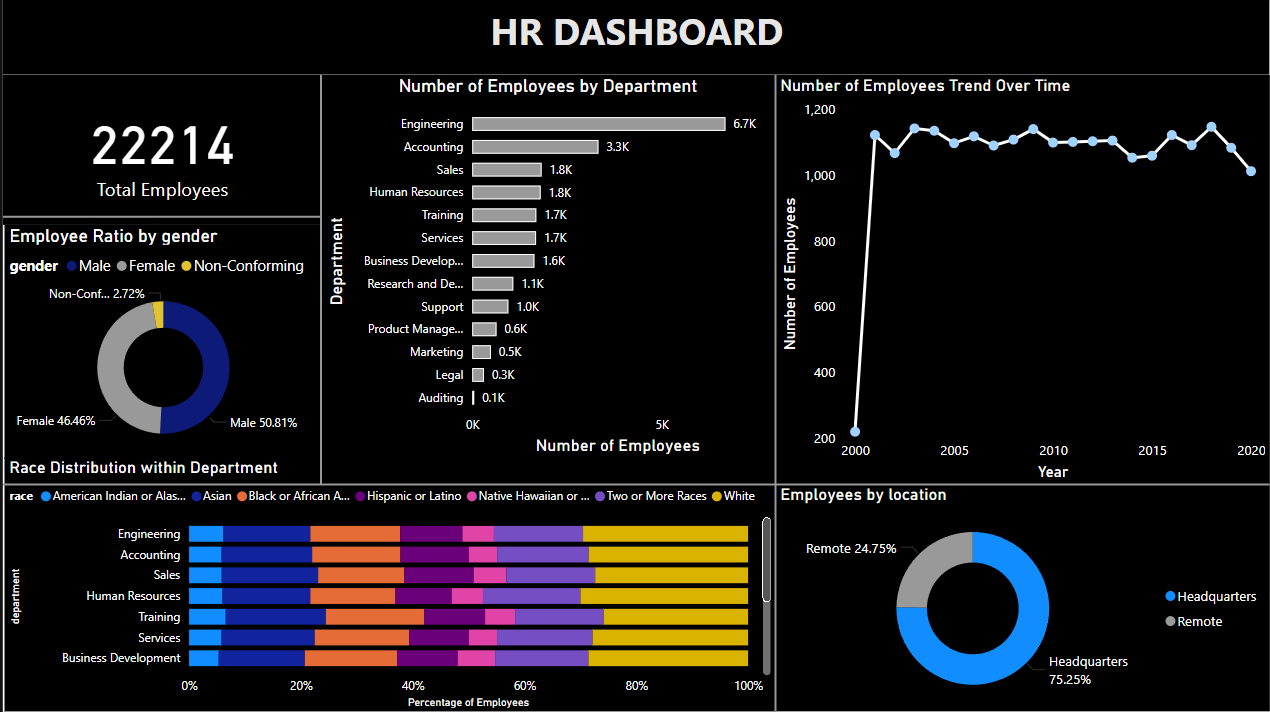

The page's visual inventory and layout, read from the dashboard file:
{"tool":"powerbi","page":{"name":"Page 1","canvas":[1280,720],"ordinal":0},"visuals":[{"type":"textbox","box":[0,0,1279.4,75.6],"z":0},{"type":"card","fields":{"Values":["CountNonNull(Query1.first_name)"]},"box":[0,76.2,321.5,151.1],"z":1000},{"type":"donutChart","title":"Employee Ratio by gender","fields":{"Category":["Query1.gender"],"Y":["CountNonNull(Query1.first_name)"]},"box":[1.3,227.3,320.2,236.3],"z":2000},{"type":"clusteredBarChart","fields":{"Category":["Query1.department"],"Y":["CountNonNull(Query1.first_name)"]},"box":[321.5,76.2,458.4,387.4],"z":3000},{"type":"hundredPercentStackedBarChart","title":"Race Distribution within Department","fields":{"Y":["CountNonNull(Query1.first_name)"],"Series":["Query1.race"],"Category":["Query1.department"]},"box":[1.5,461.8,778.3,257.4],"z":4000},{"type":"lineChart","title":"Number of Employees Trend Over Time","fields":{"Y":["CountNonNull(Query1.first_name)"],"Category":["Query1.hire_date.Variation.Date Hierarchy.Year"]},"box":[779.8,75.7,499.7,413.4],"z":5000},{"type":"donutChart","fields":{"Category":["Query1.location"],"Y":["CountNonNull(Query1.first_name)"]},"box":[779.8,489.1,499.7,230.2],"z":6000},{"type":"shape","box":[315,75.7,12.1,413.4],"z":6001},{"type":"shape","box":[773.8,75.7,12.1,413.4],"z":6002},{"type":"shape","box":[0,210.5,321,16.7],"z":6003},{"type":"shape","box":[773.8,489.1,12.1,230.2],"z":6004},{"type":"shape","box":[0,483,1279.5,12.1],"z":6005}]}

Visuals, with their boxes in screenshot pixels (x1, y1, x2, y2), scaled from the page's 1280x720 canvas onto the 1270x712 screenshot:
textbox: <box>0,0,1269,75</box>
card - CountNonNull(Query1.first_name): <box>0,75,319,225</box>
"Employee Ratio by gender" donutChart: <box>1,225,319,458</box>
clusteredBarChart - Query1.department x CountNonNull(Query1.first_name): <box>319,75,774,458</box>
"Race Distribution within Department" hundredPercentStackedBarChart: <box>1,457,774,711</box>
"Number of Employees Trend Over Time" lineChart: <box>774,75,1269,484</box>
donutChart - Query1.location x CountNonNull(Query1.first_name): <box>774,484,1269,711</box>
shape: <box>313,75,325,484</box>
shape: <box>768,75,780,484</box>
shape: <box>0,208,318,225</box>
shape: <box>768,484,780,711</box>
shape: <box>0,478,1269,490</box>
